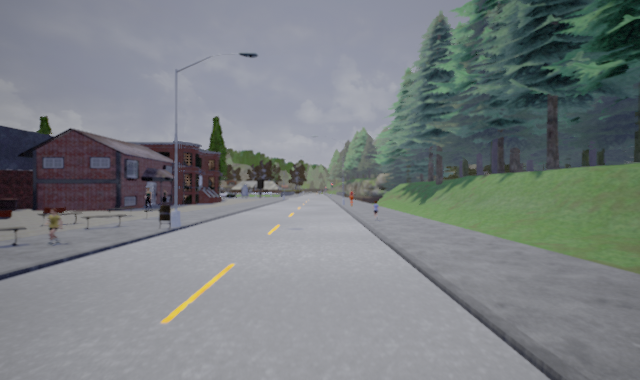pedestrian: (37, 205, 69, 245), (141, 186, 156, 211), (370, 199, 381, 220), (159, 187, 170, 206), (347, 187, 355, 206)
